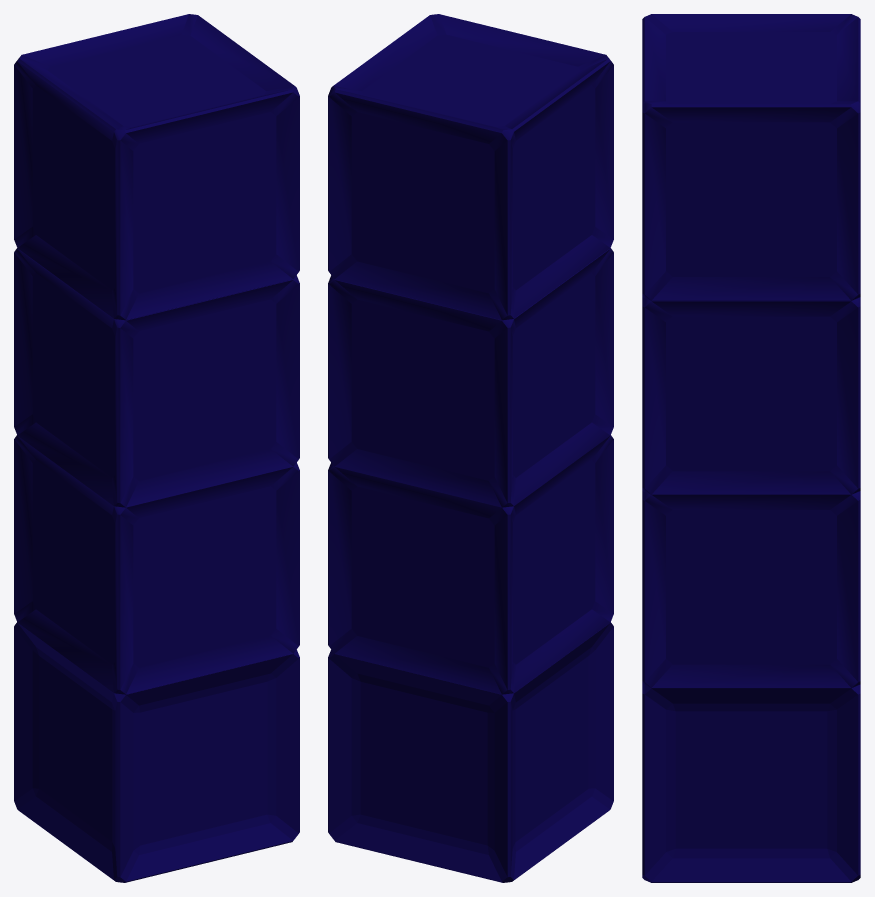
File: blueBlock.fbx
3 views of the same model, side by side, from view 1: azimuth 30°, elevation 25°; view 2: azimuth 150°, elevation 25°; view 3: azimuth 270°, elevation 25° (orthographic). The views are drawn at different scales.
Visible parts, largest first — view 1: BlueBlock; view 2: BlueBlock; view 3: BlueBlock.
Part boxes in pixels (x1=…): BlueBlock: x1=14, y1=14, x2=299, y2=882; BlueBlock: x1=328, y1=14, x2=613, y2=882; BlueBlock: x1=642, y1=14, x2=860, y2=882.
Size of the model in its own units: 196 by 773 by 196.
